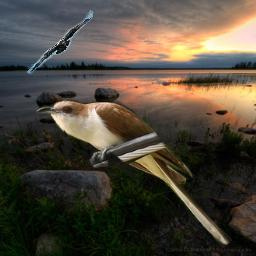Crow: (26, 10, 94, 74)
Cuckoo: (36, 98, 232, 248)
